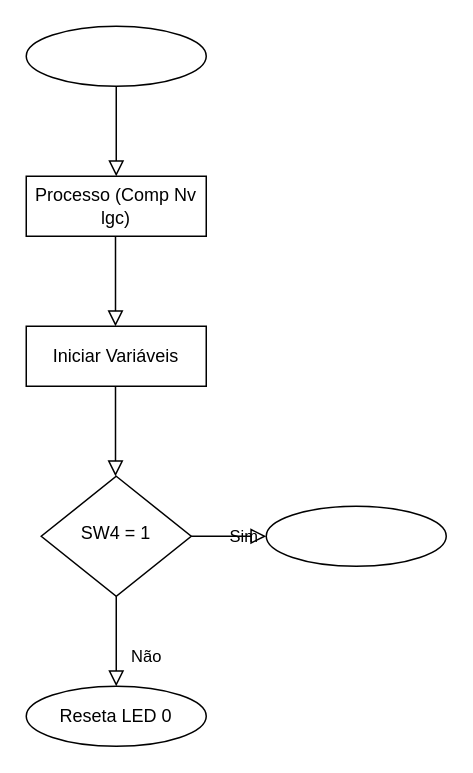
Image size: 473x773. Some labels were removed from this diagram. Here are the shapes that lost their labels. From the top down, the centre of each, then its label:
At point (115, 55): "Entrada (Chave SW4)".
At point (355, 535): "Aciona o LED 0".
